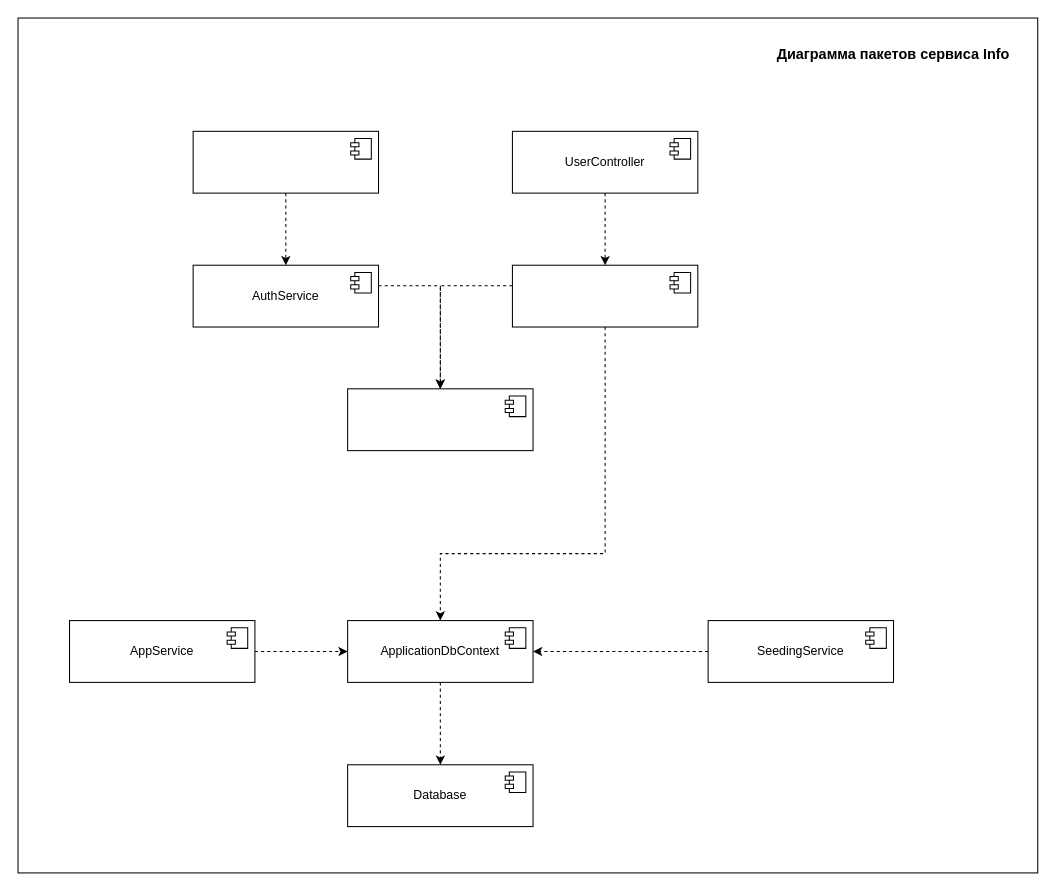
Image size: 1056x891. Some labels were removed from this diagram. The centre of each missing label's shape, as x and y in pixels:
"AuthController" goes at (x=285, y=161).
"Token Service" goes at (x=440, y=419).
"UserService" goes at (x=604, y=295).
